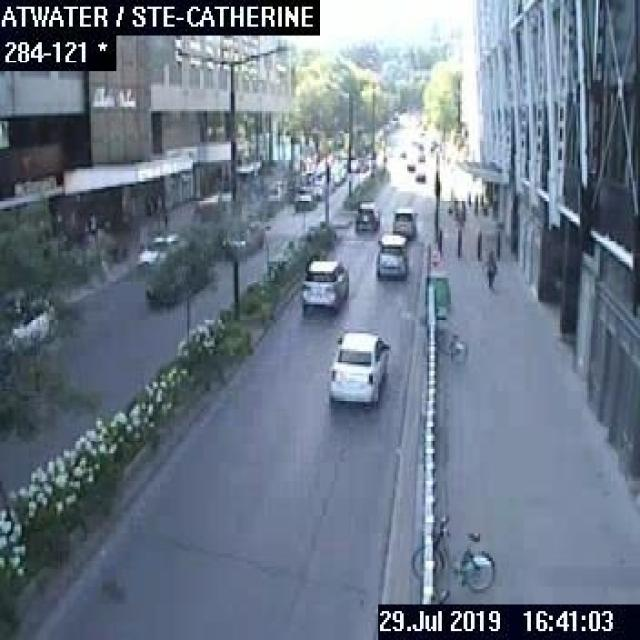pedestrian: (482, 244, 496, 289)
vehicle: (328, 328, 389, 406), (0, 285, 56, 358), (298, 257, 347, 308), (134, 231, 188, 267), (220, 219, 264, 253), (375, 232, 407, 278), (391, 206, 416, 235), (354, 200, 379, 229), (293, 185, 316, 209), (414, 170, 424, 182), (406, 161, 414, 171), (416, 152, 424, 160)
